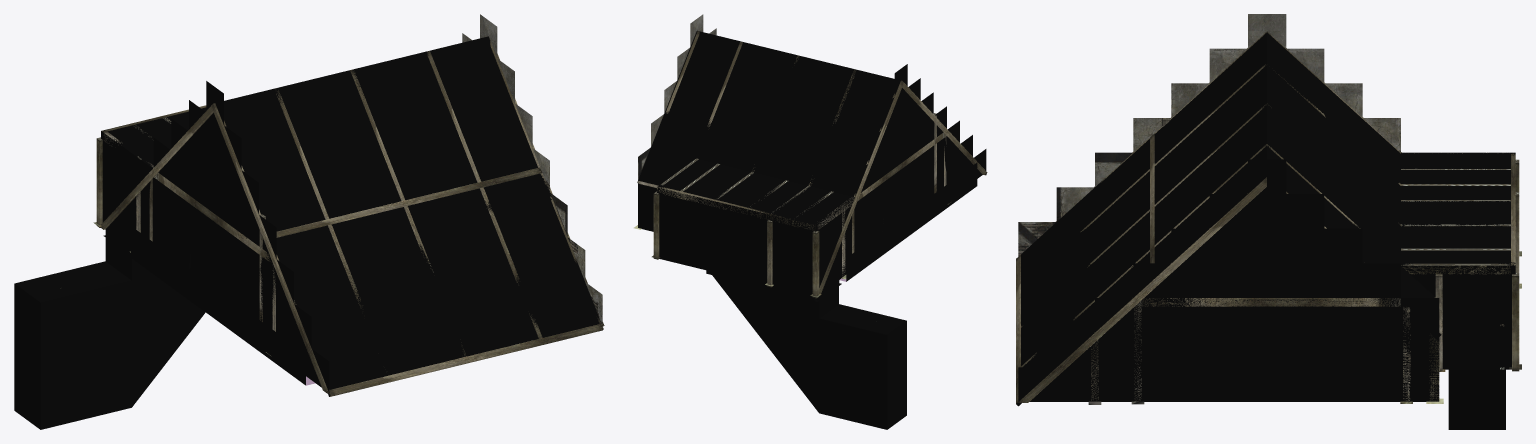
Rendered from silent_hill-old_attic.glb.
The picture shows the model from 3 angles, left to right: view 1: azimuth 30°, elevation 25°; view 2: azimuth 150°, elevation 25°; view 3: azimuth 270°, elevation 25°; orthographic projection. The views are drawn at different scales.
Visible parts, largest first — view 1: Material2 (×2), Material3; view 2: Material2 (×2), Material3; view 3: Material2 (×2), Material3.
Boxes of the visible parts, bbox=[...] form: Material2 (×2): bbox=[14, 36, 604, 429]; Material3: bbox=[462, 14, 602, 325]; Material2 (×2): bbox=[637, 30, 987, 429]; Material3: bbox=[638, 14, 716, 179]; Material2 (×2): bbox=[1016, 31, 1519, 429]; Material3: bbox=[1018, 14, 1400, 256].
Size of the model in its own units: 874 by 860 by 948.
Materials: 15 (15 with a texture image).
